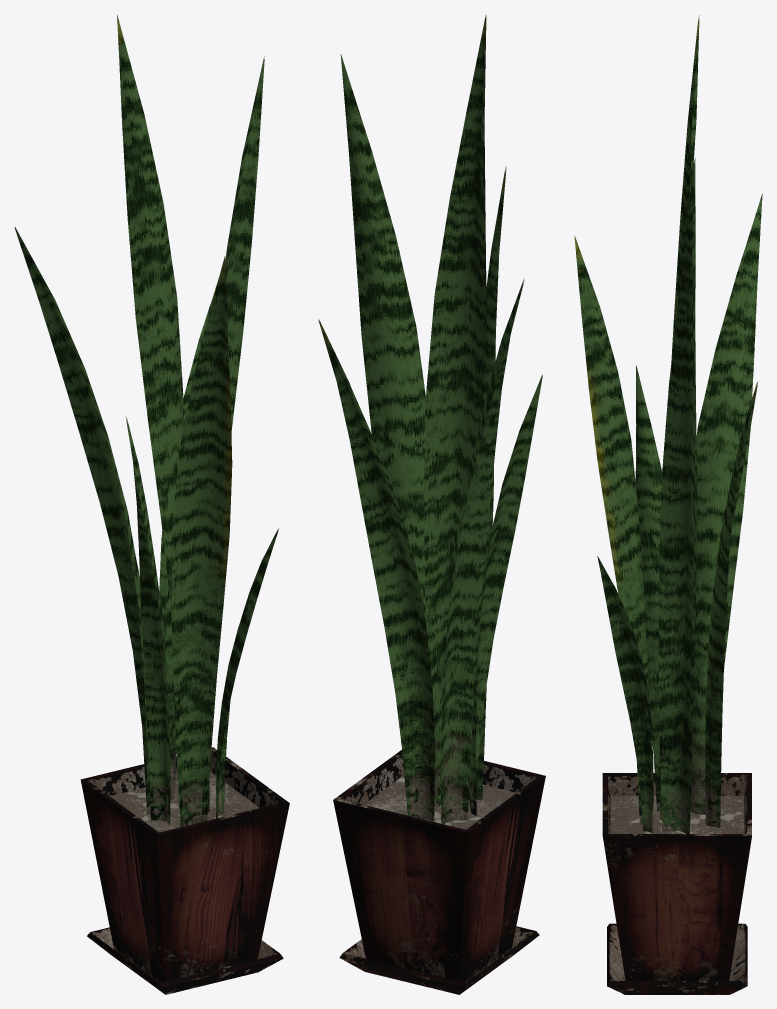
File: PlantB.FBX
3 views of the same model, side by side, from view 1: azimuth 30°, elevation 25°; view 2: azimuth 150°, elevation 25°; view 3: azimuth 270°, elevation 25° (orthographic). The views are drawn at different scales.
Parts seen in each view (by area): view 1: PlantB_LOD0; view 2: PlantB_LOD0; view 3: PlantB_LOD0.
Boxes of the visible parts, x1,y1,x2,y2 form: PlantB_LOD0: (14, 15, 289, 994); PlantB_LOD0: (318, 15, 545, 994); PlantB_LOD0: (574, 15, 762, 994).
Size of what is drawn, in the model's own units: 29.1 by 123 by 22.52.
